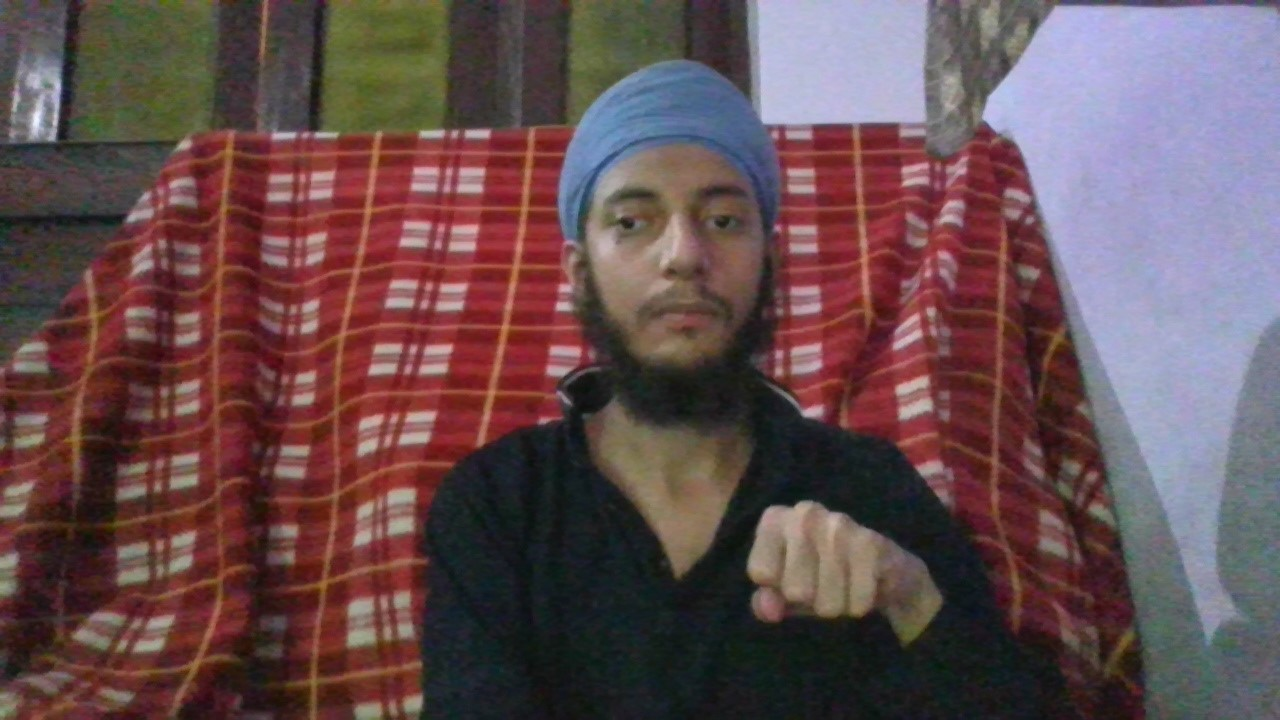Yes: (746, 503, 885, 630)
